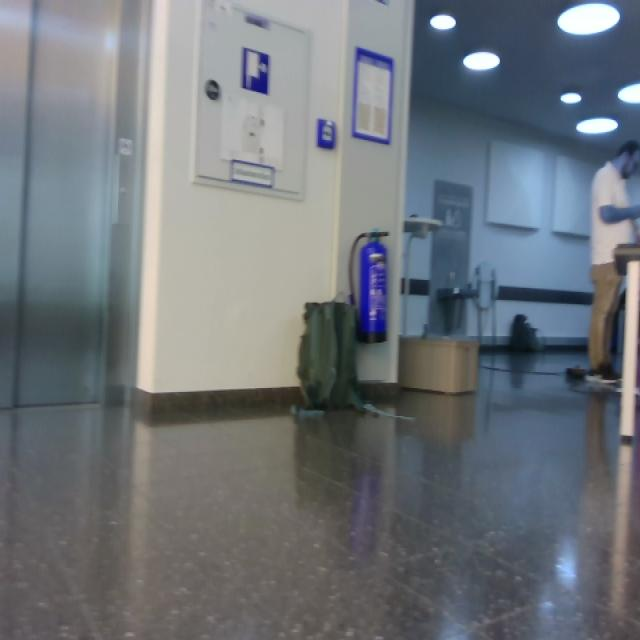door: (137, 1, 347, 394), (1, 1, 151, 410)
fire extinguisher: (349, 229, 390, 344)
light bulb: (557, 2, 621, 37), (576, 116, 619, 136), (463, 50, 501, 72), (430, 13, 457, 32), (618, 82, 640, 105), (560, 90, 582, 105)
person: (585, 140, 640, 384)
tiled floor: (2, 349, 639, 638)
